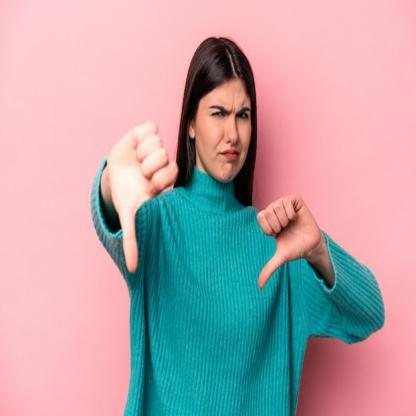thumb_down: (107, 116, 180, 276), (254, 191, 320, 292)
